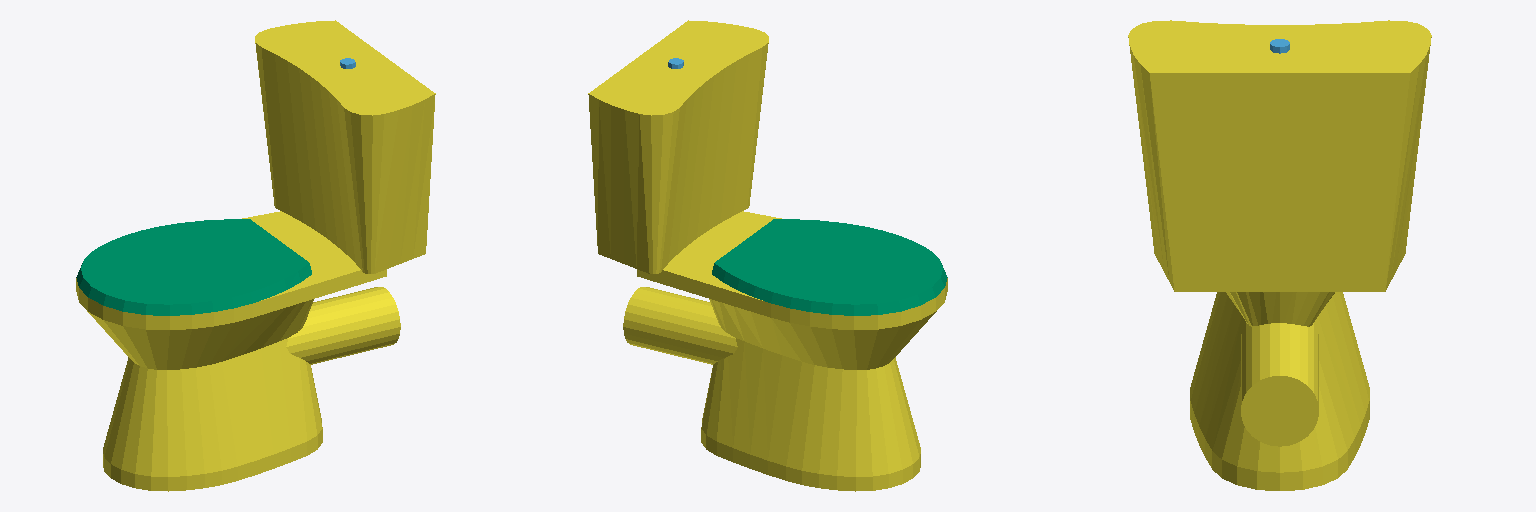
URDF robot description (partnet_fd877b1865ae46fea50b88953d263a42):
<robot name="partnet_fd877b1865ae46fea50b88953d263a42">
	<link name="base" />
	<link name="link_0">
		<collision>
			<origin xyz="0 0 0" />
			<geometry>
				<mesh filename="new_objs/103234_link_0_0.obj" />
			</geometry>
		</collision>
	<collision>
			<origin xyz="0 0 0" />
			<geometry>
				<mesh filename="new_objs/103234_link_0_2.obj" />
			</geometry>
		</collision>
	<collision>
			<origin xyz="0 0 0" />
			<geometry>
				<mesh filename="new_objs/103234_link_0_1.obj" />
			</geometry>
		</collision>
	<visual name="button-part[&quot;id]">
			<origin xyz="0 0 0" />
			<geometry>
				<mesh filename="textured_objs/original-2.obj" />
			</geometry>
		</visual>
		</link>
	<joint name="joint_0" type="prismatic">
		<origin xyz="0 0 0" />
		<axis xyz="0 -1 0" />
		<child link="link_0" />
		<parent link="link_2" />
		<limit lower="0" upper="0.01" />
	</joint>
	<link name="link_1">
		<collision>
			<origin xyz="0 -0.07169431157428954 0.06144525123946366" />
			<geometry>
				<mesh filename="new_objs/103234_link_1_0.obj" />
			</geometry>
		</collision>
	<visual name="lid-part[&quot;id]">
			<origin xyz="0 -0.07169431157428954 0.06144525123946366" />
			<geometry>
				<mesh filename="textured_objs/original-5.obj" />
			</geometry>
		</visual>
		</link>
	<joint name="joint_1" type="revolute">
		<origin xyz="0 0.07169431157428954 -0.06144525123946366" />
		<axis xyz="-1 0 0" />
		<child link="link_1" />
		<parent link="link_2" />
		<limit lower="-0.0" upper="1.6406094968746698" />
	</joint>
	<link name="link_2">
		<collision>
			<origin xyz="0 0 0" />
			<geometry>
				<mesh filename="new_objs/103234_link_2_24.obj" />
			</geometry>
		</collision>
		<collision>
			<origin xyz="0 0 0" />
			<geometry>
				<mesh filename="new_objs/103234_link_2_14.obj" />
			</geometry>
		</collision>
		<collision>
			<origin xyz="0 0 0" />
			<geometry>
				<mesh filename="new_objs/103234_link_2_29.obj" />
			</geometry>
		</collision>
		<collision>
			<origin xyz="0 0 0" />
			<geometry>
				<mesh filename="new_objs/103234_link_2_4.obj" />
			</geometry>
		</collision>
		<collision>
			<origin xyz="0 0 0" />
			<geometry>
				<mesh filename="new_objs/103234_link_2_27.obj" />
			</geometry>
		</collision>
		<collision>
			<origin xyz="0 0 0" />
			<geometry>
				<mesh filename="new_objs/103234_link_2_12.obj" />
			</geometry>
		</collision>
		<collision>
			<origin xyz="0 0 0" />
			<geometry>
				<mesh filename="new_objs/103234_link_2_19.obj" />
			</geometry>
		</collision>
		<collision>
			<origin xyz="0 0 0" />
			<geometry>
				<mesh filename="new_objs/103234_link_2_5.obj" />
			</geometry>
		</collision>
		<collision>
			<origin xyz="0 0 0" />
			<geometry>
				<mesh filename="new_objs/103234_link_2_10.obj" />
			</geometry>
		</collision>
		<collision>
			<origin xyz="0 0 0" />
			<geometry>
				<mesh filename="new_objs/103234_link_2_3.obj" />
			</geometry>
		</collision>
		<collision>
			<origin xyz="0 0 0" />
			<geometry>
				<mesh filename="new_objs/103234_link_2_6.obj" />
			</geometry>
		</collision>
		<collision>
			<origin xyz="0 0 0" />
			<geometry>
				<mesh filename="new_objs/103234_link_2_18.obj" />
			</geometry>
		</collision>
		<collision>
			<origin xyz="0 0 0" />
			<geometry>
				<mesh filename="new_objs/103234_link_2_13.obj" />
			</geometry>
		</collision>
		<collision>
			<origin xyz="0 0 0" />
			<geometry>
				<mesh filename="new_objs/103234_link_2_8.obj" />
			</geometry>
		</collision>
		<collision>
			<origin xyz="0 0 0" />
			<geometry>
				<mesh filename="new_objs/103234_link_2_9.obj" />
			</geometry>
		</collision>
		<collision>
			<origin xyz="0 0 0" />
			<geometry>
				<mesh filename="new_objs/103234_link_2_7.obj" />
			</geometry>
		</collision>
		<collision>
			<origin xyz="0 0 0" />
			<geometry>
				<mesh filename="new_objs/103234_link_2_17.obj" />
			</geometry>
		</collision>
		<collision>
			<origin xyz="0 0 0" />
			<geometry>
				<mesh filename="new_objs/103234_link_2_2.obj" />
			</geometry>
		</collision>
		<collision>
			<origin xyz="0 0 0" />
			<geometry>
				<mesh filename="new_objs/103234_link_2_1.obj" />
			</geometry>
		</collision>
		<collision>
			<origin xyz="0 0 0" />
			<geometry>
				<mesh filename="new_objs/103234_link_2_11.obj" />
			</geometry>
		</collision>
		<collision>
			<origin xyz="0 0 0" />
			<geometry>
				<mesh filename="new_objs/103234_link_2_30.obj" />
			</geometry>
		</collision>
		<collision>
			<origin xyz="0 0 0" />
			<geometry>
				<mesh filename="new_objs/103234_link_2_28.obj" />
			</geometry>
		</collision>
		<collision>
			<origin xyz="0 0 0" />
			<geometry>
				<mesh filename="new_objs/103234_link_2_20.obj" />
			</geometry>
		</collision>
		<collision>
			<origin xyz="0 0 0" />
			<geometry>
				<mesh filename="new_objs/103234_link_2_16.obj" />
			</geometry>
		</collision>
		<collision>
			<origin xyz="0 0 0" />
			<geometry>
				<mesh filename="new_objs/103234_link_2_26.obj" />
			</geometry>
		</collision>
		<collision>
			<origin xyz="0 0 0" />
			<geometry>
				<mesh filename="new_objs/103234_link_2_22.obj" />
			</geometry>
		</collision>
		<collision>
			<origin xyz="0 0 0" />
			<geometry>
				<mesh filename="new_objs/103234_link_2_15.obj" />
			</geometry>
		</collision>
		<collision>
			<origin xyz="0 0 0" />
			<geometry>
				<mesh filename="new_objs/103234_link_2_25.obj" />
			</geometry>
		</collision>
		<collision>
			<origin xyz="0 0 0" />
			<geometry>
				<mesh filename="new_objs/103234_link_2_21.obj" />
			</geometry>
		</collision>
		<collision>
			<origin xyz="0 0 0" />
			<geometry>
				<mesh filename="new_objs/103234_link_2_23.obj" />
			</geometry>
		</collision>
		<collision>
			<origin xyz="0 0 0" />
			<geometry>
				<mesh filename="new_objs/103234_link_2_0.obj" />
			</geometry>
		</collision>
		<visual name="base_body-part[&quot;id]">
			<origin xyz="0 0 0" />
			<geometry>
				<mesh filename="textured_objs/original-3.obj" />
			</geometry>
		</visual>
		<visual name="base_body-part[&quot;id]">
			<origin xyz="0 0 0" />
			<geometry>
				<mesh filename="textured_objs/original-6.obj" />
			</geometry>
		</visual>
		<visual name="base_body-part[&quot;id]">
			<origin xyz="0 0 0" />
			<geometry>
				<mesh filename="textured_objs/original-1.obj" />
			</geometry>
		</visual>
		</link>
	<joint name="joint_2" type="fixed">
		<origin rpy="1.570796326794897 0 -1.570796326794897" xyz="0 0 0" />
		<child link="link_2" />
		<parent link="base" />
	</joint>
</robot>

--- Facts derived from the render (not from the file) ---
Views: 3 orthographic renders of the robot side by side, from view 1: azimuth 30°, elevation 25°; view 2: azimuth 150°, elevation 25°; view 3: azimuth 270°, elevation 25°.
Model partnet_fd877b1865ae46fea50b88953d263a42 with 4 links and 3 joints (1 revolute, 1 prismatic, 1 fixed), rooted at base, posed every joint at zero.
Visible links, largest first — view 1: link_2, link_1; view 2: link_2, link_1; view 3: link_2.
Link boxes in pixels (bbox=[...]): link_2: bbox=[76, 20, 435, 491]; link_1: bbox=[76, 219, 311, 315]; link_2: bbox=[588, 20, 947, 491]; link_1: bbox=[712, 219, 947, 315]; link_2: bbox=[1128, 20, 1431, 490].
Size in the robot's own frame: 1.32 by 0.8939 by 1.52 metres.
5 mesh visuals loaded from 5 distinct referenced files (5 OBJ).
